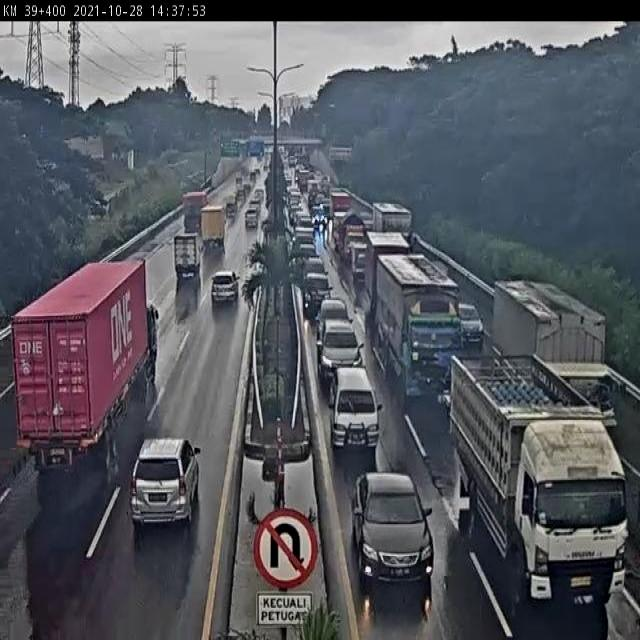Car: (349, 467, 436, 591), (132, 440, 200, 532), (315, 317, 367, 386), (314, 297, 356, 338), (302, 272, 335, 318), (456, 300, 487, 347), (211, 272, 238, 304), (301, 255, 330, 284), (295, 242, 320, 264), (308, 205, 326, 227), (244, 208, 258, 228), (249, 198, 261, 215), (253, 188, 265, 204)
Truck: (441, 350, 628, 616), (7, 258, 162, 474), (490, 279, 618, 425), (374, 250, 463, 407), (363, 228, 411, 312), (370, 198, 418, 254), (172, 232, 205, 280), (338, 211, 366, 265), (179, 189, 210, 231), (200, 203, 228, 247), (350, 240, 371, 282), (331, 190, 353, 212)
Van: (328, 366, 384, 452)
